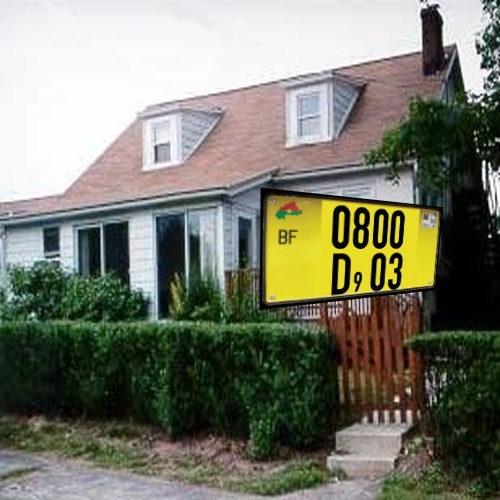plate: (240, 180, 453, 323)
